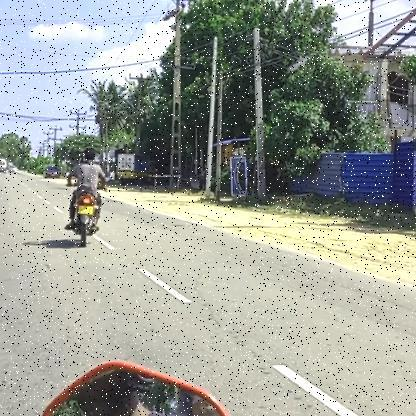motorcycle: (64, 190, 104, 250)
